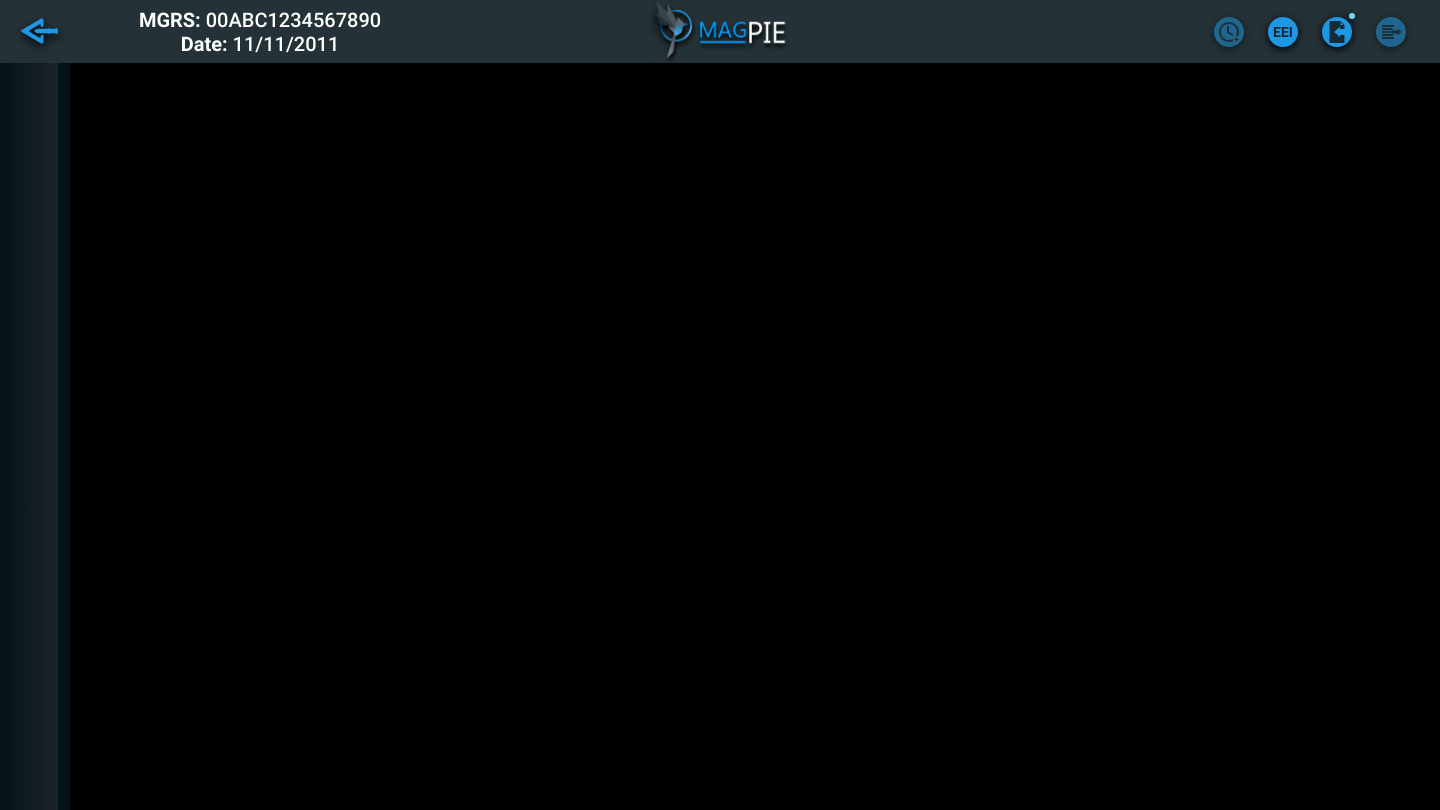
Scenario: Interactions Dashboard › should toggle displaying the add segment placeholder on add segment button press
Click the button with class "add-segment-button" at x=1229, y=32, box x1=1214 y1=16 x2=1244 y2=46
(page scrolled)
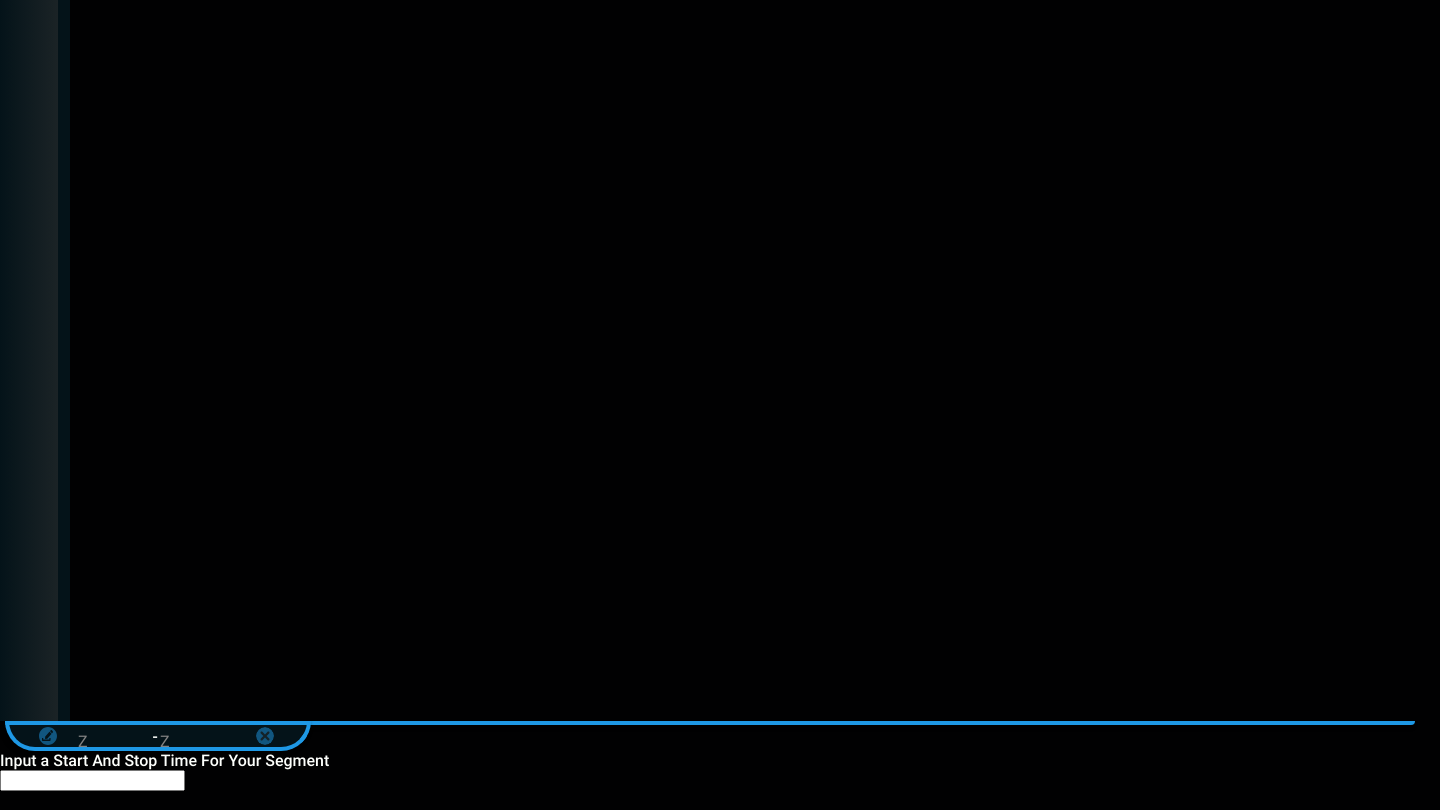
Now the element with class "segment-divider-placeholder" is shown, box x1=5 y1=721 x2=1415 y2=751
